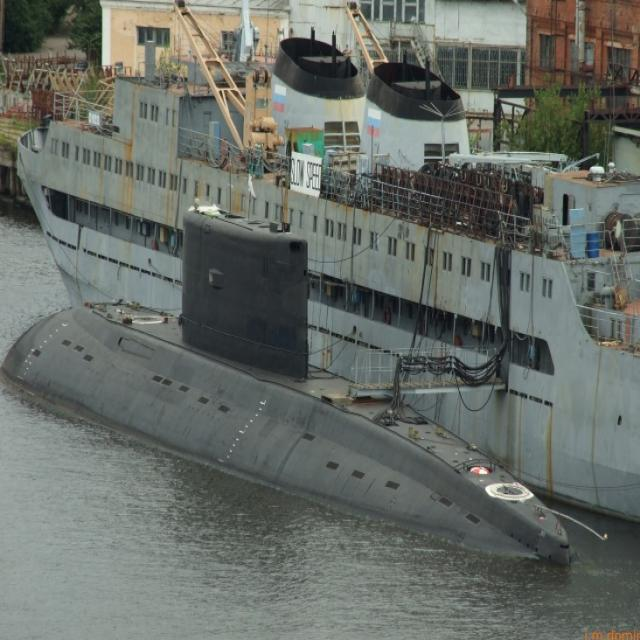submarine: (1, 203, 585, 563)
